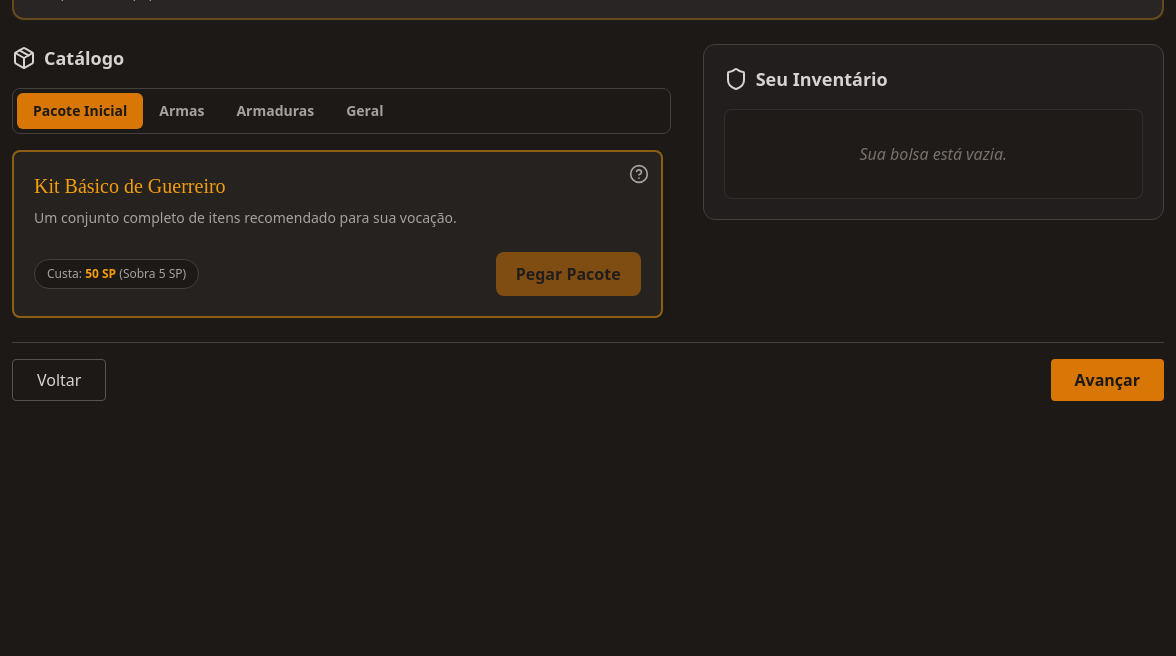
Test: comprar e vender › o botão de compra fica desligado quando a carteira não cobre o preço
Click the button "Armas" at (182, 111), box [143,93,220,129]
(page scrolled)
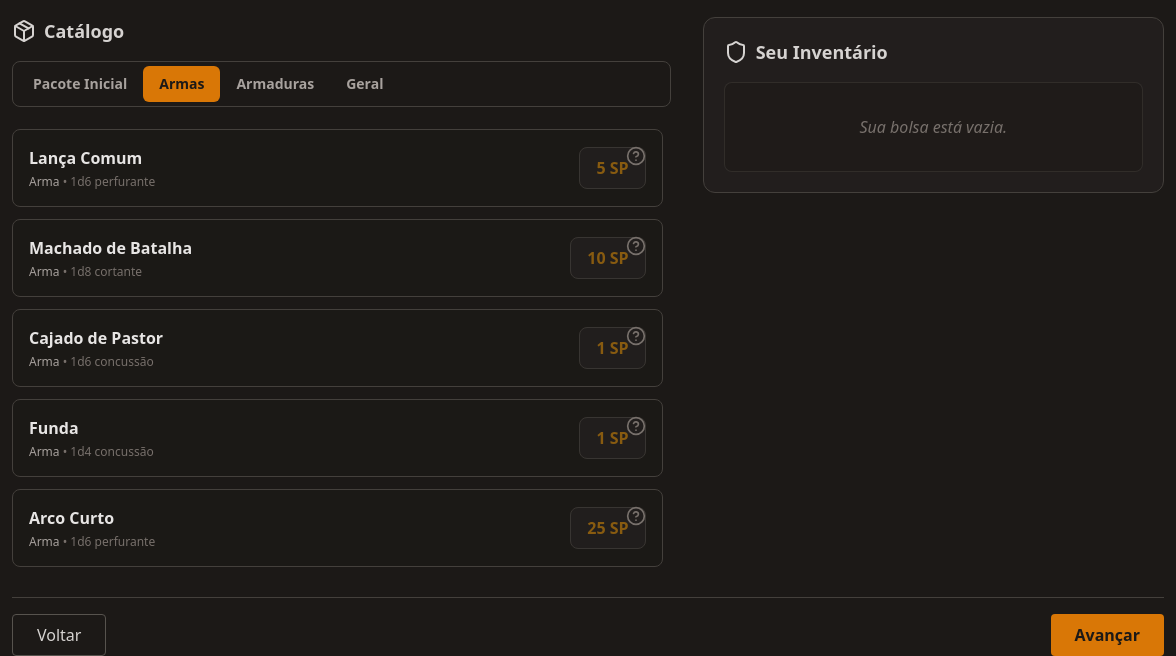
Check: the button "1 SP" in the row of "Cajado de Pastor" is disabled, box [580,327,646,369]
